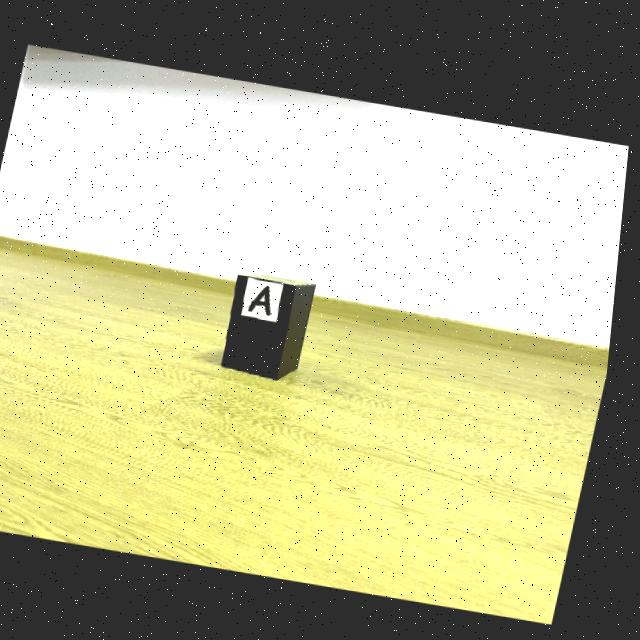A: (255, 283, 277, 313)
